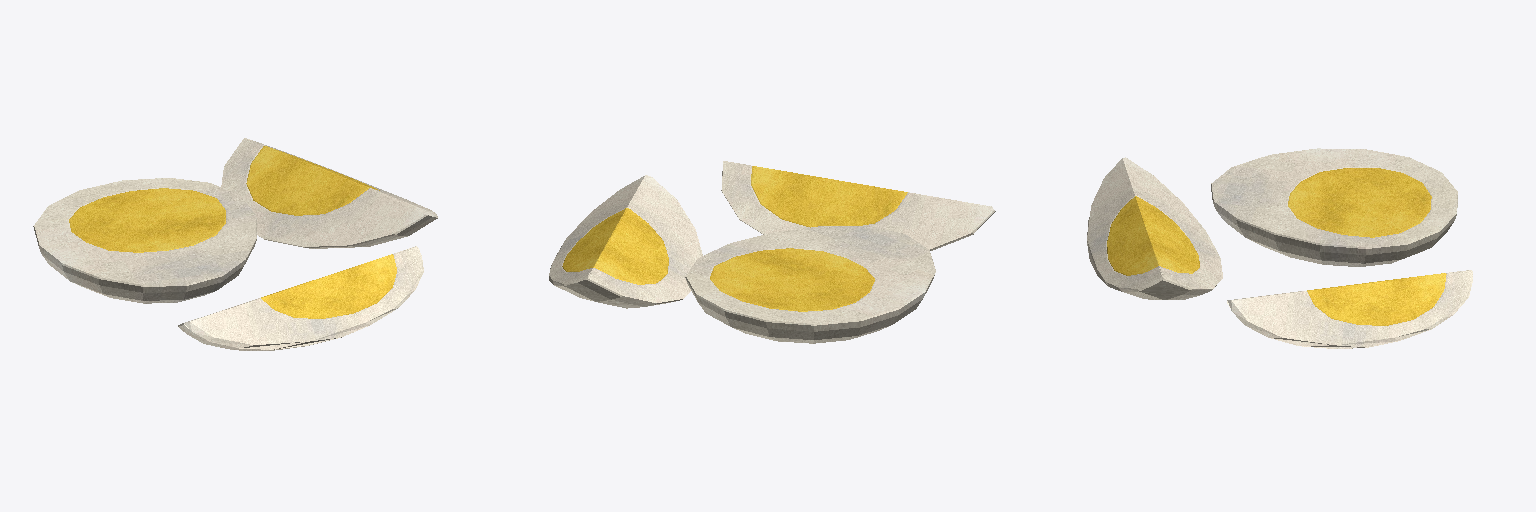
3 views of the same model, side by side, from view 1: azimuth 30°, elevation 25°; view 2: azimuth 150°, elevation 25°; view 3: azimuth 270°, elevation 25° (orthographic).
Parts seen in each view (by area): view 1: egg; view 2: egg; view 3: egg.
Boxes of the visible parts, box(x1,y1,x2,y2) form: egg: box(33, 138, 437, 350); egg: box(549, 161, 995, 343); egg: box(1087, 148, 1472, 348).
Size of the model in its own units: 2 by 0.3 by 1.9.
Materials: 2 (1 with a texture image).